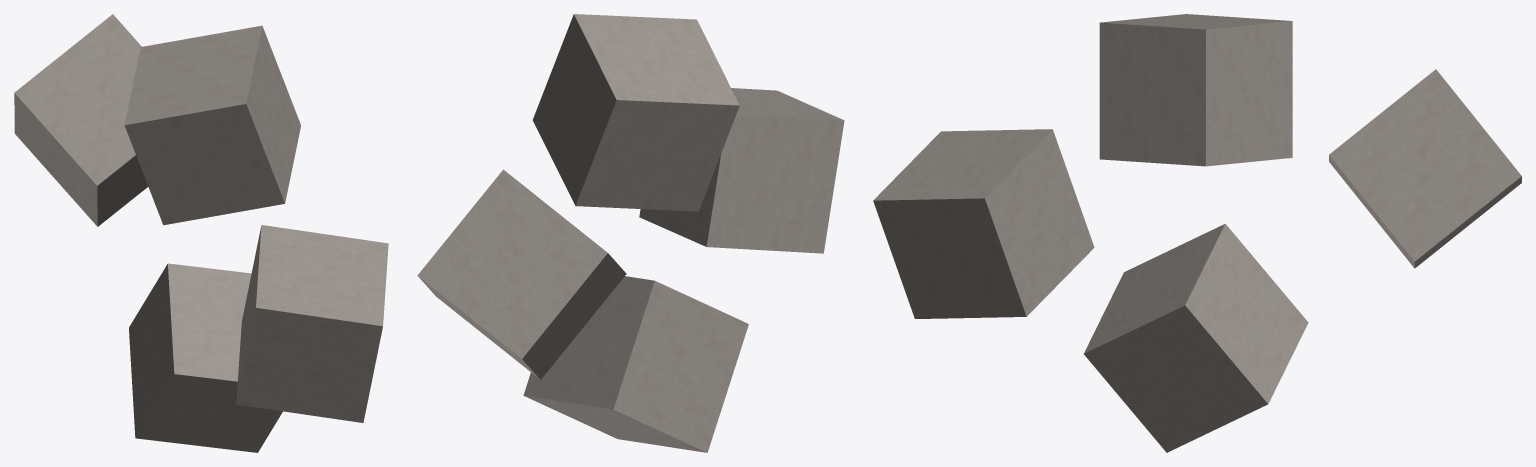
The picture shows the model from 3 angles, left to right: view 1: azimuth 30°, elevation 25°; view 2: azimuth 150°, elevation 25°; view 3: azimuth 270°, elevation 25°; orthographic projection. The views are drawn at different scales.
Parts seen in each view (by area): view 1: Cube.002, Cube.001, Cube, Cube.003; view 2: Cube.002, Cube, Cube.003, Cube.001; view 3: Cube.001, Cube, Cube.002, Cube.003.
Boxes of the visible parts, x1,y1,x2,y2 form: Cube.002: (124, 25, 300, 225); Cube.001: (236, 225, 388, 422); Cube: (129, 263, 282, 452); Cube.003: (14, 14, 148, 226); Cube.002: (532, 14, 739, 211); Cube: (523, 276, 748, 452); Cube.003: (417, 169, 626, 379); Cube.001: (639, 88, 844, 253); Cube.001: (873, 129, 1094, 318); Cube: (1084, 223, 1308, 452); Cube.002: (1099, 14, 1292, 166); Cube.003: (1329, 69, 1521, 268).
Bounding box in the file's own units: 2.01 × 4.23 × 5.71.
Materials: 1 (1 with a texture image).
